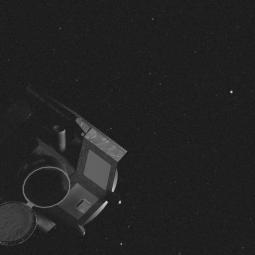cheops: (4, 92, 122, 243)
